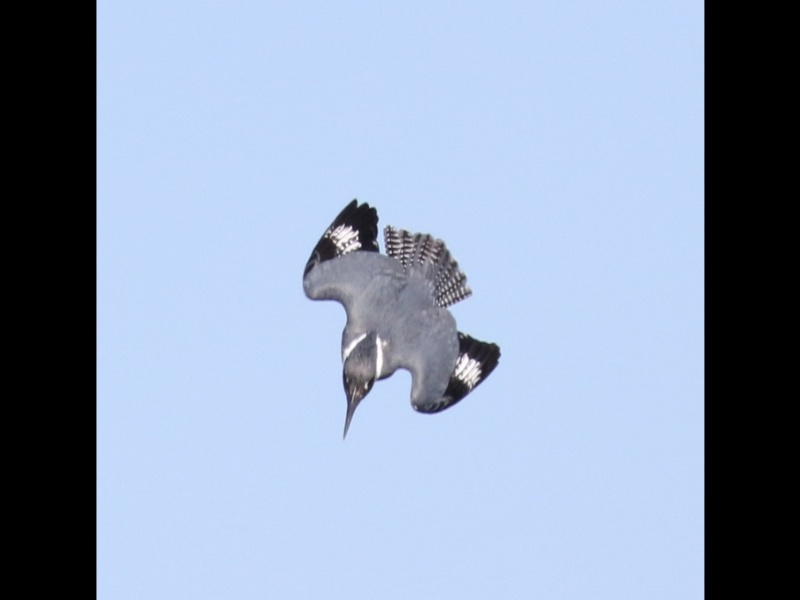kingfisher: (300, 196, 502, 444)
